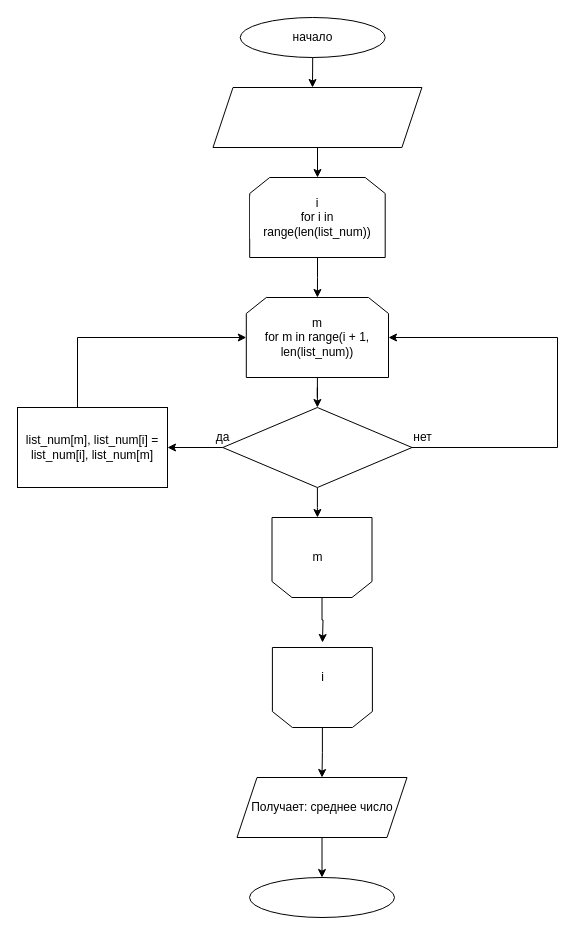
This 583x935 diagram has some shape labels left out. Each missing label, with the centre of its shape:
list_num[m] < list_num[i]: pixel 317 447
конец: pixel 321 897
пользователь вводит список из чисел list_num: pixel 317 117
